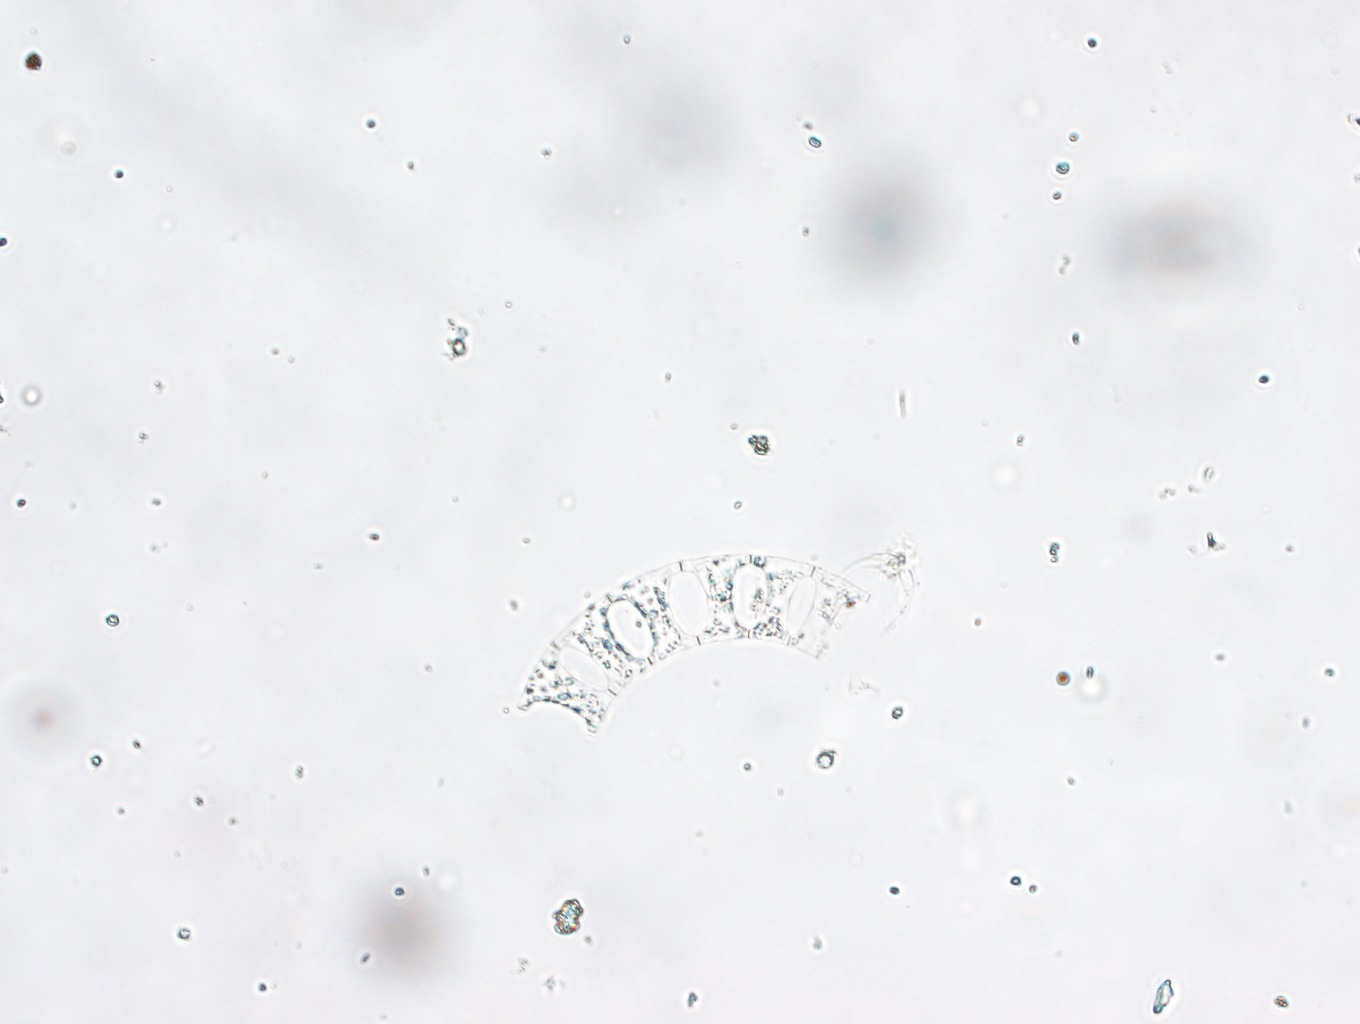eucampia: (517, 551, 870, 733)
